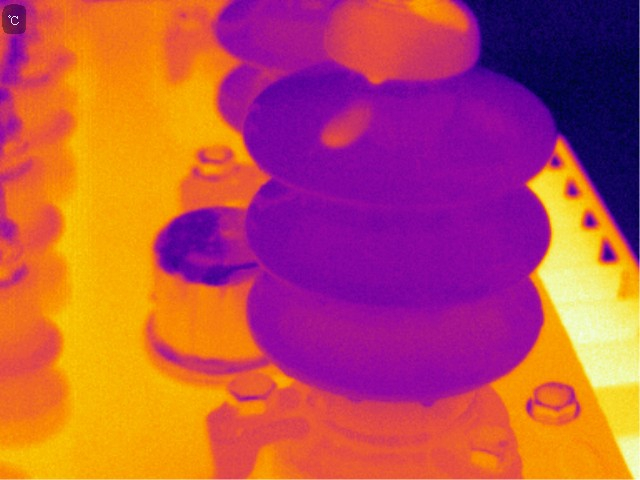Oil: (333, 1, 476, 88), (316, 97, 375, 150), (256, 189, 297, 209), (417, 393, 436, 410), (345, 389, 365, 405)
